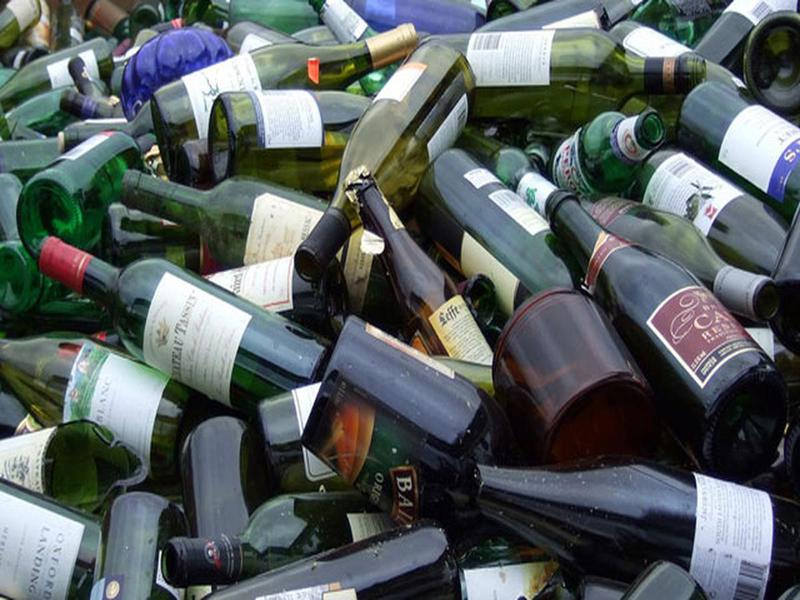bottle: (542, 186, 785, 434), (33, 232, 328, 416), (284, 34, 478, 284), (449, 465, 797, 596), (550, 96, 673, 201)
